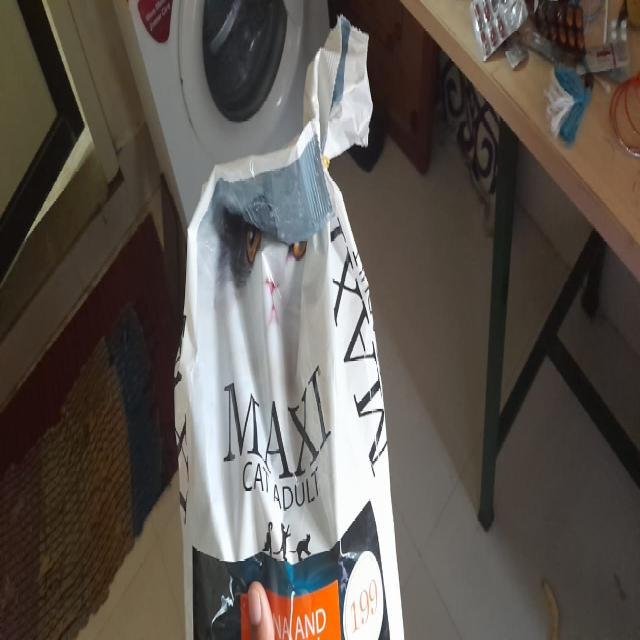Plastic - Recyclable: (173, 122, 405, 637)
